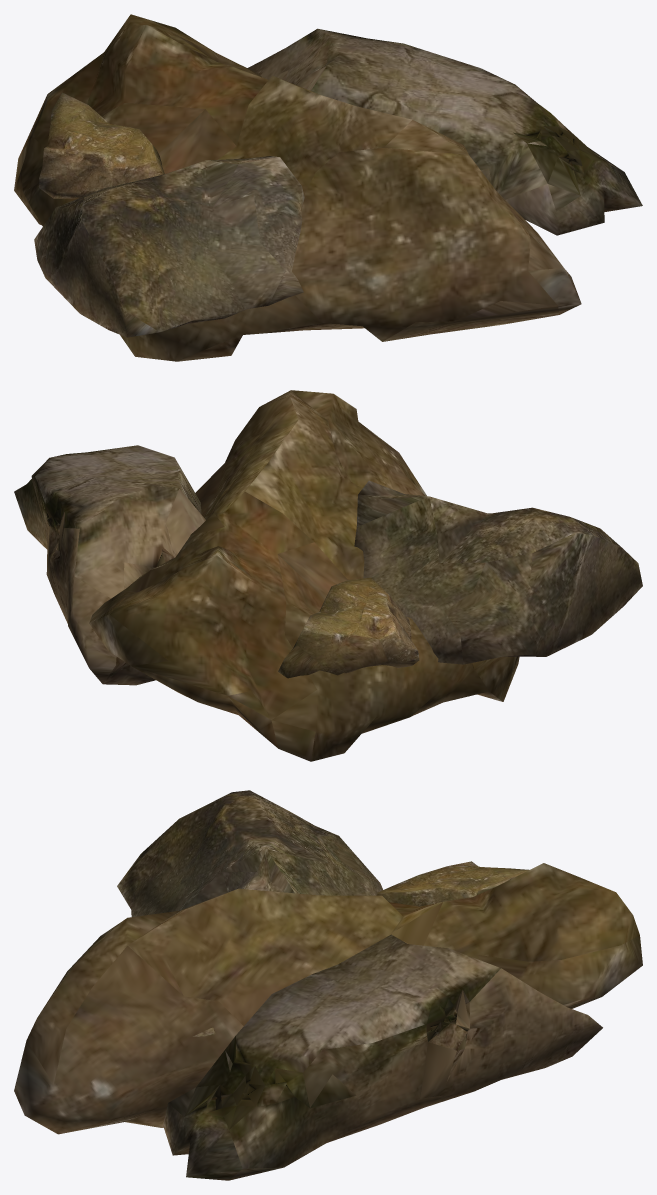
Rendered from rock_cluster_mossy.glb.
The picture shows the model from 3 angles, top to bottom: view 1: azimuth 30°, elevation 25°; view 2: azimuth 150°, elevation 25°; view 3: azimuth 270°, elevation 25°; orthographic projection. The views are drawn at different scales.
Parts seen in each view (by area): view 1: rock_moss_set_01_rock01, rock_moss_set_01_rock03, rock_moss_set_01_rock02, rock_moss_set_01_rock06; view 2: rock_moss_set_01_rock01, rock_moss_set_01_rock03, rock_moss_set_01_rock02, rock_moss_set_01_rock06; view 3: rock_moss_set_01_rock01, rock_moss_set_01_rock02, rock_moss_set_01_rock03, rock_moss_set_01_rock06.
Part boxes in pixels (x1,y1,x2,y2): rock_moss_set_01_rock01: (14, 14, 581, 361); rock_moss_set_01_rock03: (34, 156, 304, 337); rock_moss_set_01_rock02: (247, 28, 642, 235); rock_moss_set_01_rock06: (39, 92, 164, 198); rock_moss_set_01_rock01: (89, 390, 519, 761); rock_moss_set_01_rock03: (354, 480, 642, 664); rock_moss_set_01_rock02: (14, 445, 205, 685); rock_moss_set_01_rock06: (278, 577, 419, 678); rock_moss_set_01_rock01: (14, 863, 642, 1134); rock_moss_set_01_rock02: (163, 934, 602, 1180); rock_moss_set_01_rock03: (117, 790, 382, 916); rock_moss_set_01_rock06: (376, 861, 528, 906).
Bounding box in the file's own units: 4.48 × 1.63 × 4.2.
1 material, 1 textured.
